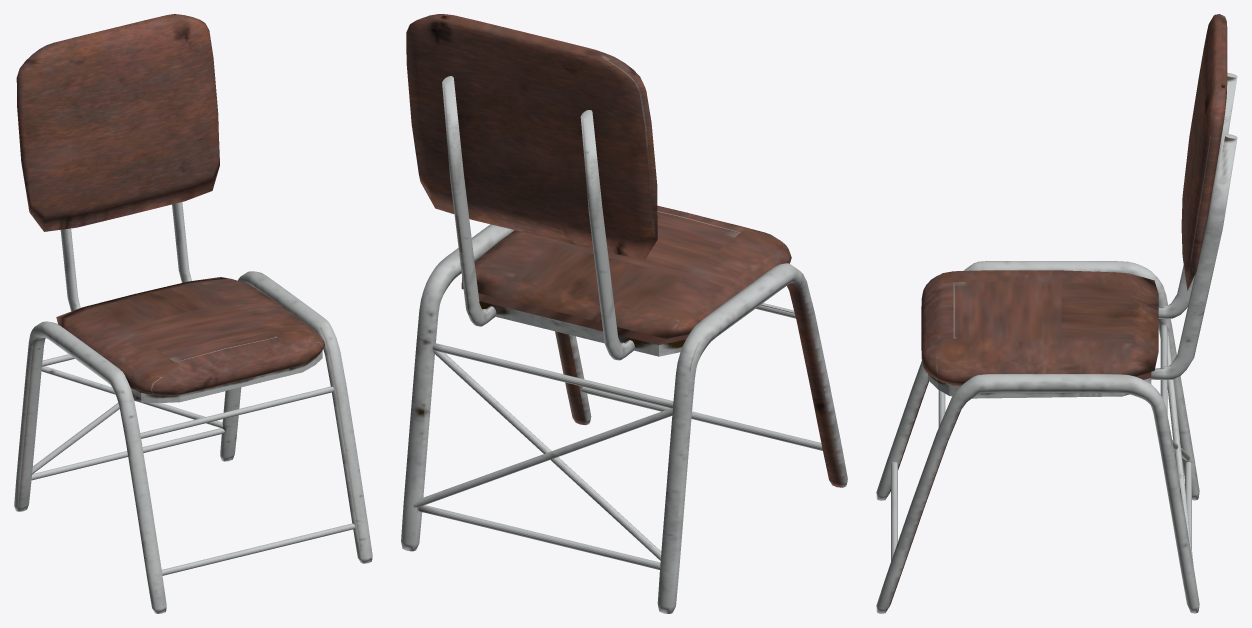
File: CaideraCouro_Del_CENA.fbx
3 renders of one model, left to right at view 1: azimuth 30°, elevation 25°; view 2: azimuth 150°, elevation 25°; view 3: azimuth 270°, elevation 25°, orthographic. The views are drawn at different scales.
Parts seen in each view (by area): view 1: Cube.012; view 2: Cube.012; view 3: Cube.012.
Part boxes in pixels (x1,y1,x2,y2): Cube.012: [14, 14, 372, 613]; Cube.012: [401, 14, 847, 613]; Cube.012: [876, 14, 1237, 613].
Size of the model in its own units: 55.21 by 107 by 69.33.
Materials: 1 (1 with a texture image).
